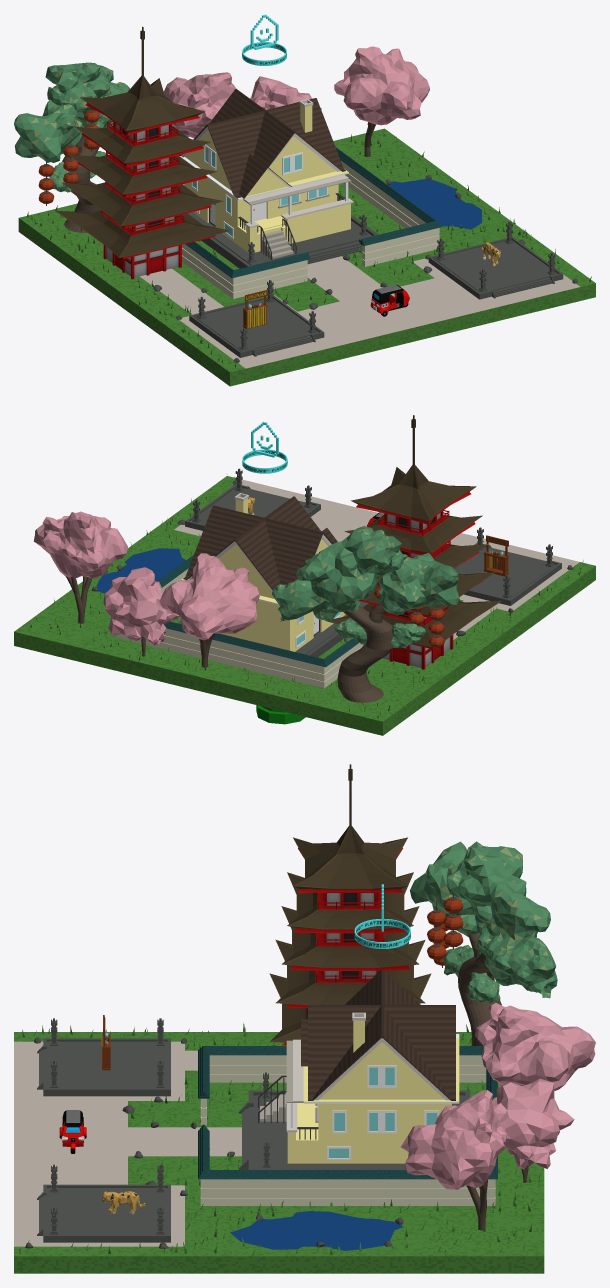
3 renders of one model, top to bottom at view 1: azimuth 30°, elevation 25°; view 2: azimuth 150°, elevation 25°; view 3: azimuth 270°, elevation 25°, orthographic. The views are drawn at different scales.
Parts seen in each view (by area): view 1: Cube.005, Cube.1555, TYPE_PREMIUM, VEHICLES_TUC_TUC, OBJRANDOM_LEMONADE_STAND; view 2: Cube.005, Cube.1555, TYPE_PREMIUM, OBJRANDOM_LEMONADE_STAND, UNDERGROUND_PIPES; view 3: Cube.005, Cube.1555, TYPE_PREMIUM, VEHICLES_TUC_TUC.
Part boxes in pixels (x1,y1,x2,y2): Cube.005: (14, 26, 595, 386); Cube.1555: (178, 89, 353, 259); TYPE_PREMIUM: (242, 14, 286, 65); VEHICLES_TUC_TUC: (370, 284, 409, 316); OBJRANDOM_LEMONADE_STAND: (243, 290, 267, 328); Cube.005: (14, 415, 595, 735); Cube.1555: (181, 493, 345, 651); TYPE_PREMIUM: (242, 421, 287, 473); OBJRANDOM_LEMONADE_STAND: (483, 535, 508, 576); UNDERGROUND_PIPES: (256, 705, 305, 724); Cube.005: (14, 764, 595, 1273); Cube.1555: (258, 969, 459, 1163); TYPE_PREMIUM: (354, 884, 410, 948); VEHICLES_TUC_TUC: (59, 1110, 86, 1153).
Bounding box in the file's own units: 4528 × 3273 × 4389.
50 materials, 6 textured.
